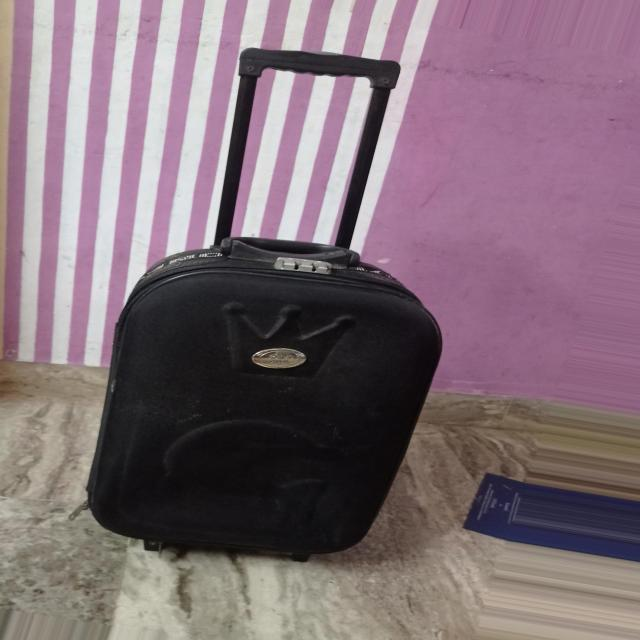Bag: (78, 31, 450, 569)
Handle: (209, 40, 427, 270)
